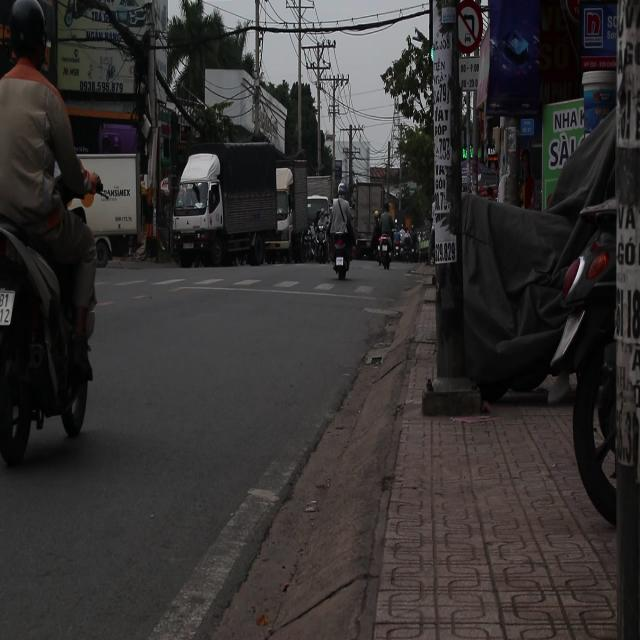motorbike: (0, 238, 98, 444), (371, 226, 394, 272), (333, 243, 350, 282)
truck: (171, 141, 298, 268), (74, 121, 144, 262)
